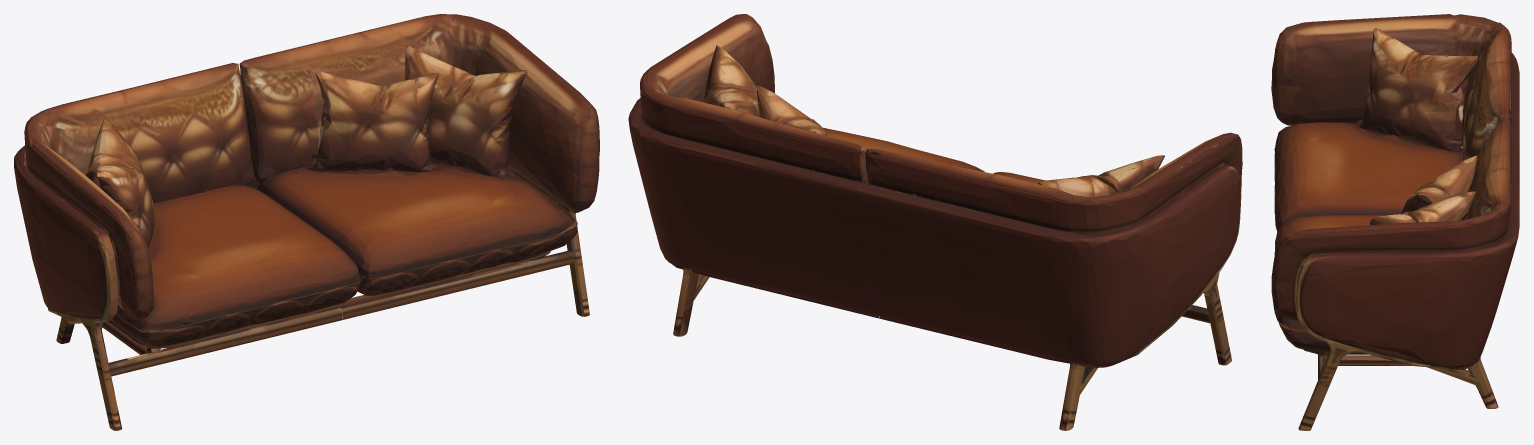
File: edited_mesh.glb
The picture shows the model from 3 angles, left to right: view 1: azimuth 30°, elevation 25°; view 2: azimuth 150°, elevation 25°; view 3: azimuth 270°, elevation 25°; orthographic projection. The views are drawn at different scales.
Visible parts, largest first — view 1: solid_001_wire; view 2: solid_001_wire; view 3: solid_001_wire.
Part boxes in pixels (<box>): solid_001_wire: <box>14,14,599,430</box>; solid_001_wire: <box>628,14,1242,430</box>; solid_001_wire: <box>1271,14,1519,430</box>.
Size of the model in its own units: 2 by 0.8758 by 0.9391.
Materials: 1 (1 with a texture image).
